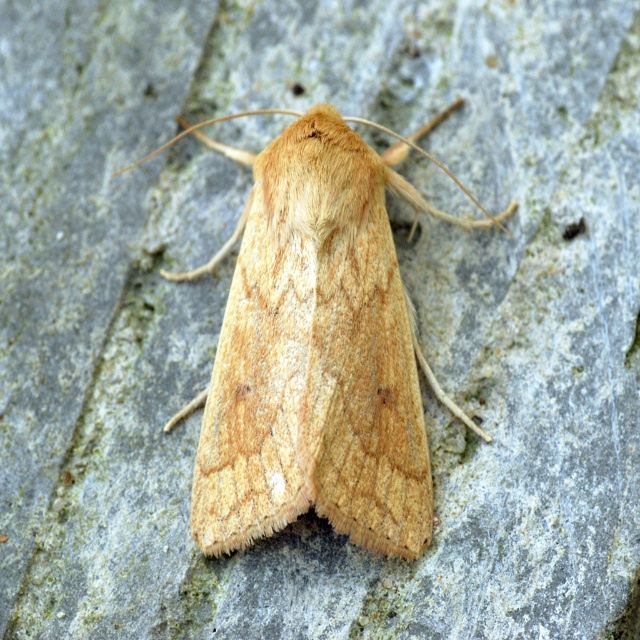Moths and butterflies: (106, 93, 524, 560)
